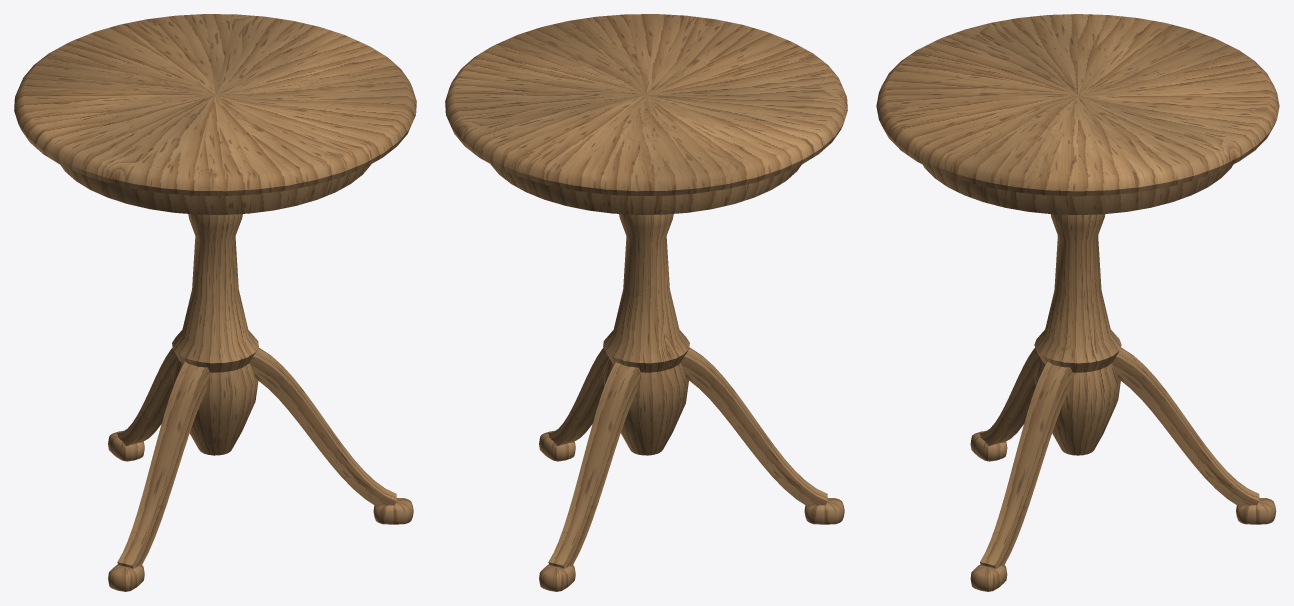
File: lib_side_table.obj
The picture shows the model from 3 angles, left to right: view 1: azimuth 30°, elevation 25°; view 2: azimuth 150°, elevation 25°; view 3: azimuth 270°, elevation 25°; orthographic projection.
Visible parts, largest first — view 1: lib_side_table; view 2: lib_side_table; view 3: lib_side_table.
Boxes of the visible parts, left/top/right/bottom form: lib_side_table: left=14, top=14, right=416, bottom=591; lib_side_table: left=445, top=14, right=847, bottom=591; lib_side_table: left=876, top=14, right=1279, bottom=591.
Bounding box in the file's own units: 0.6 × 0.7 × 0.6.
Materials: 1 (1 with a texture image).
